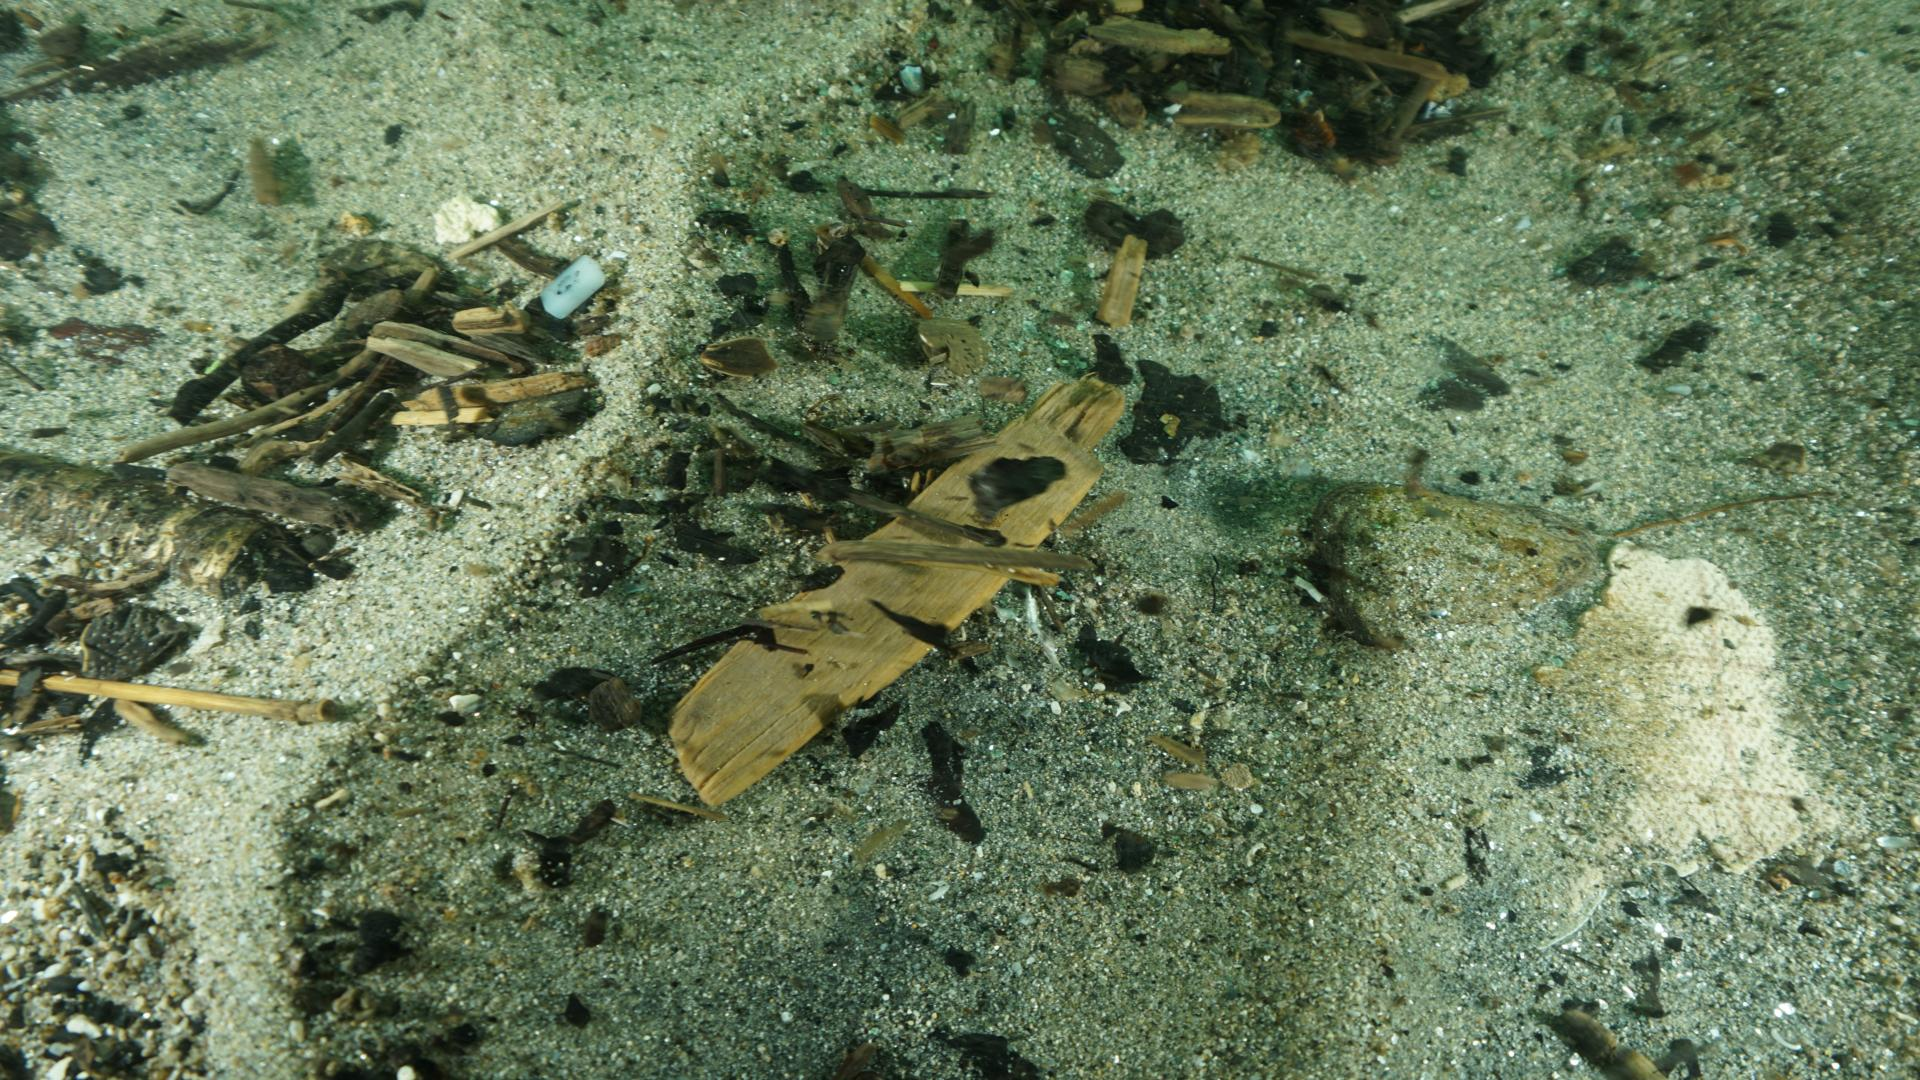wood: (659, 375, 1139, 814)
